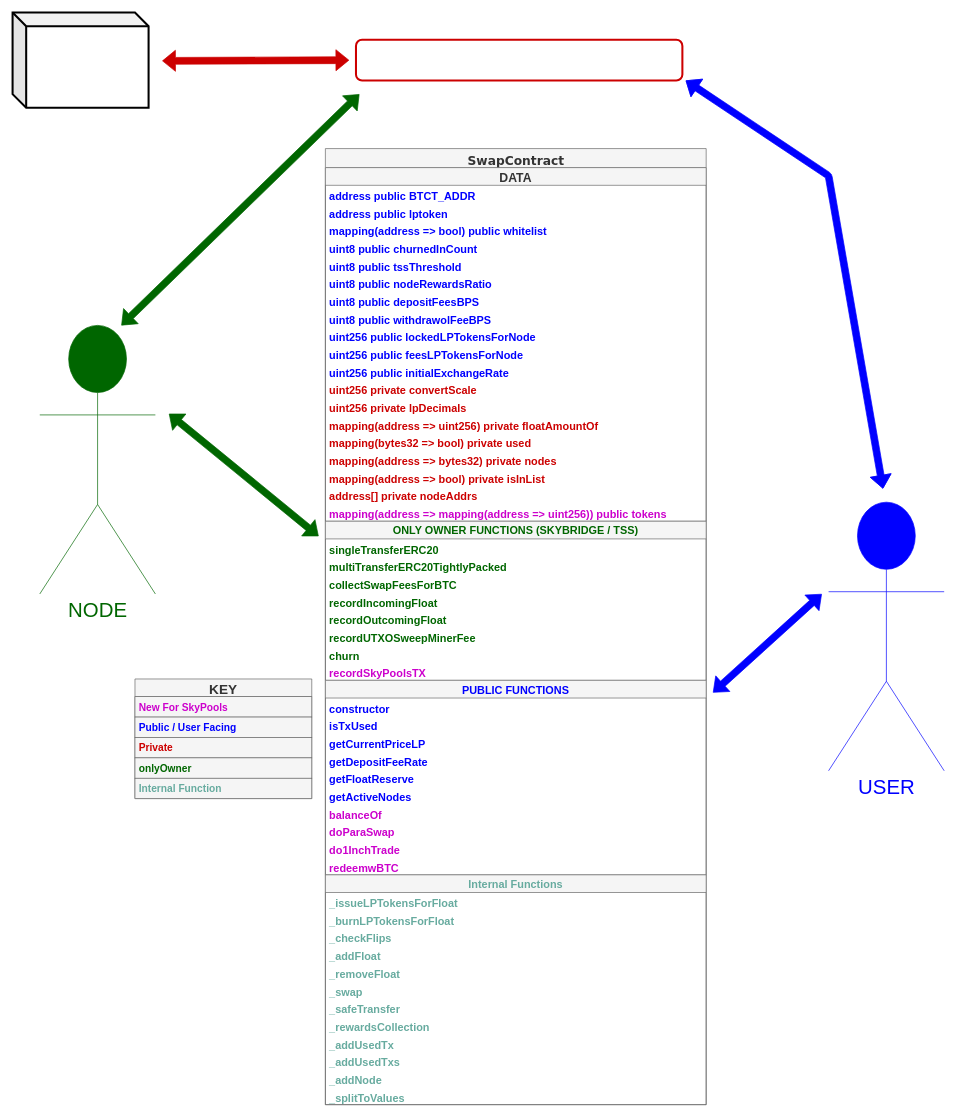
The diagram is 956 pixels wide and 1119 high, and some of its shapes have lost their labels. The centre of each missing label's shape, as x and y in pixels:
BLOCKCHAIN: the point at 80,59
SKYBRIDGE: the point at 519,59
